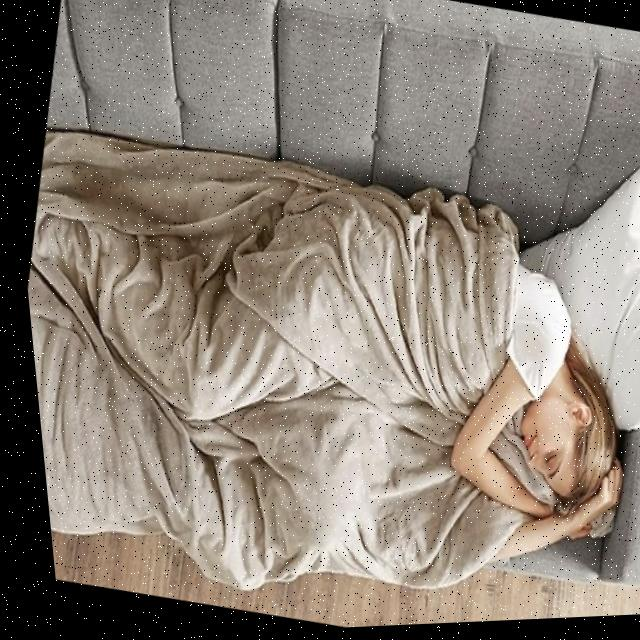sleeping-person: (10, 106, 640, 638)
